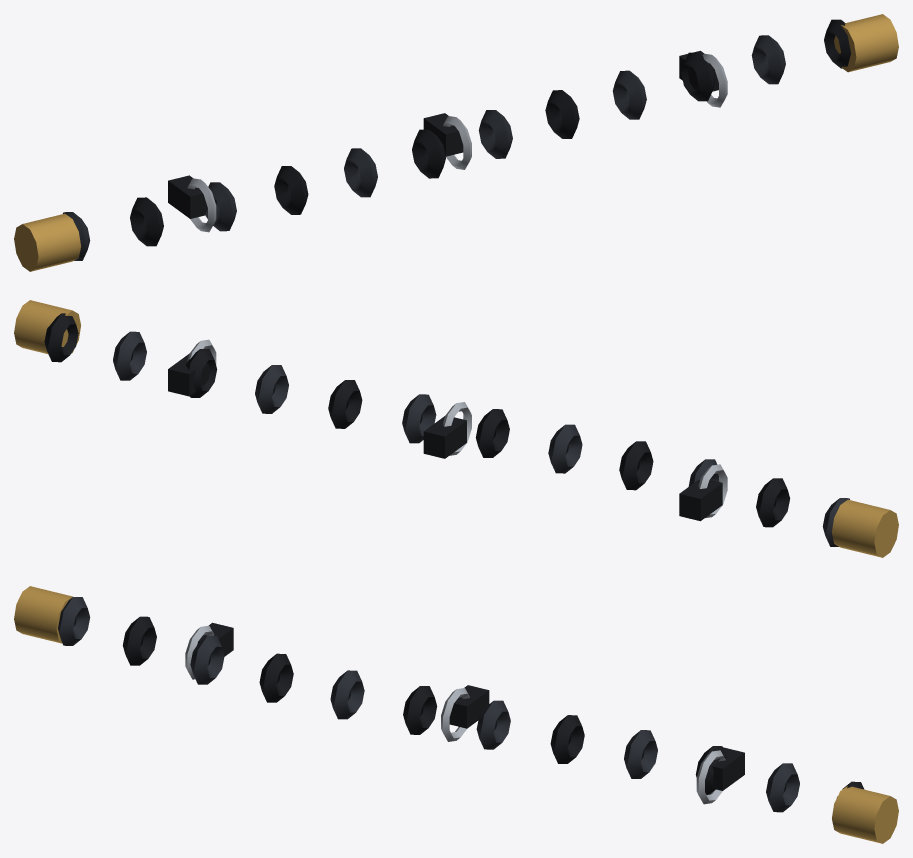
File: cabletray_flex_conduit.glb
3 renders of one model, top to bottom at view 1: azimuth 30°, elevation 25°; view 2: azimuth 150°, elevation 25°; view 3: azimuth 330°, elevation 25°, orthographic.
Parts seen in each view (by area): view 1: cabletray_flex_conduit; view 2: cabletray_flex_conduit; view 3: cabletray_flex_conduit.
Boxes of the visible parts, x1,y1,x2,y2 form: cabletray_flex_conduit: [14, 14, 898, 271]; cabletray_flex_conduit: [14, 300, 898, 557]; cabletray_flex_conduit: [14, 586, 898, 843].
Size of the model in its own units: 2.02 by 0.116 by 0.1749.
